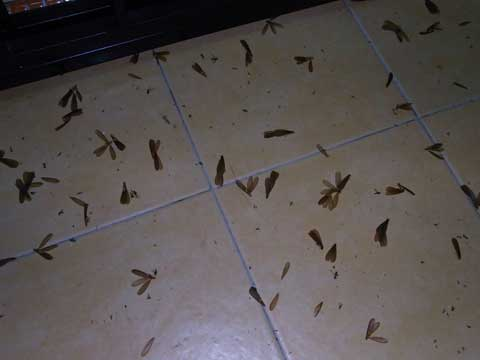flying termite: (310, 169, 354, 217), (89, 122, 118, 166), (126, 266, 165, 298), (359, 312, 389, 349), (369, 211, 393, 257), (12, 169, 43, 204), (379, 17, 411, 50), (55, 83, 91, 111), (31, 232, 60, 265), (259, 122, 297, 145), (259, 14, 288, 44), (237, 35, 257, 74), (210, 149, 228, 192), (235, 172, 259, 203), (145, 136, 164, 174), (419, 140, 447, 165), (263, 169, 280, 204), (417, 18, 444, 39), (291, 53, 317, 74), (304, 226, 324, 253), (119, 179, 137, 209), (187, 60, 210, 80), (324, 241, 341, 266), (150, 49, 172, 68), (393, 99, 417, 115), (384, 183, 406, 199)
